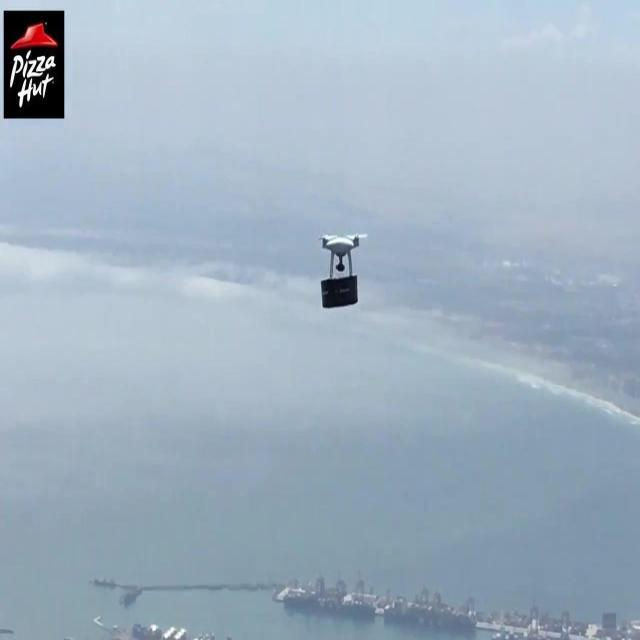drone: (318, 230, 367, 310)
